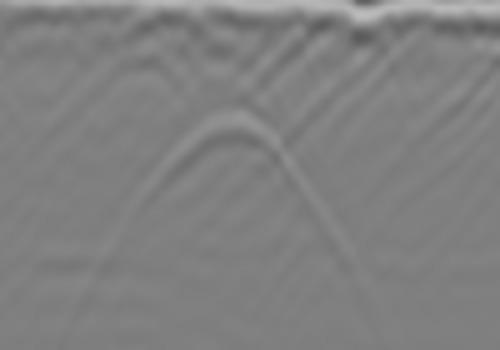hyperbola: (132, 102, 319, 215)
